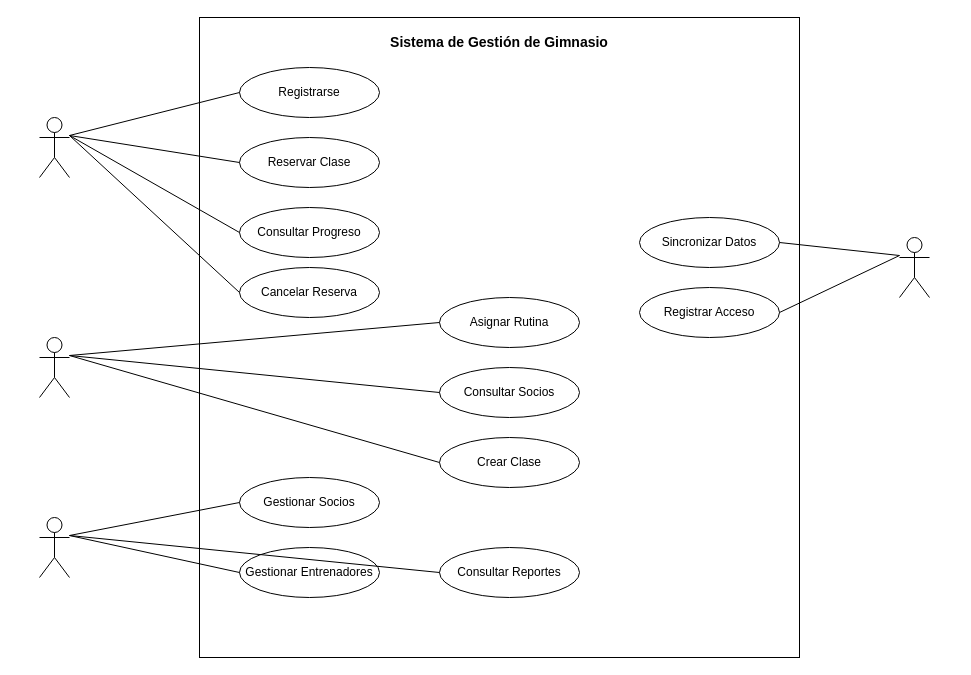
Some shapes in this 971 by 675 pixel diagram are drawn without their labels. The centre of each missing label's shape, as x and y in pixels:
"Administrador" goes at (54,547).
"Dispositivo IoT" goes at (914,267).
"Entrenador" goes at (54,367).
"Socio" goes at (54,147).
